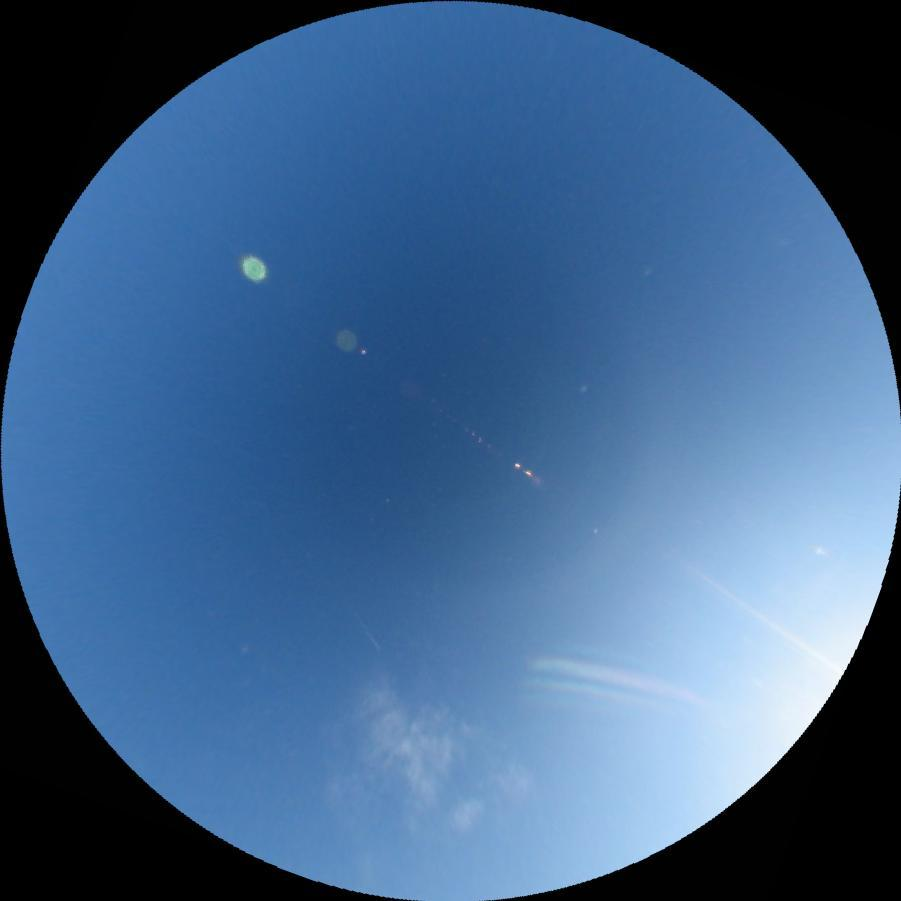contrail young: (350, 607, 380, 651)
parasite: (680, 559, 832, 667), (528, 648, 704, 707)
